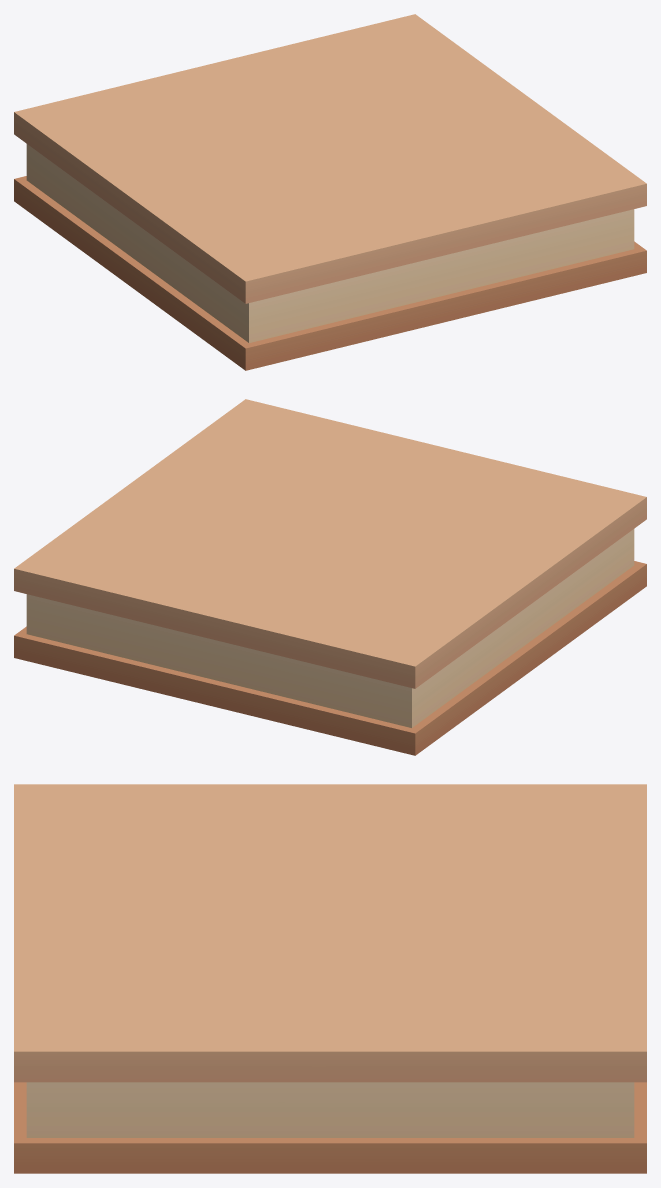
Rendered from kenney-modular-buildings-roof-flat-detail-b.glb.
3 renders of one model, top to bottom at view 1: azimuth 30°, elevation 25°; view 2: azimuth 150°, elevation 25°; view 3: azimuth 270°, elevation 25°, orthographic. The views are drawn at different scales.
Parts seen in each view (by area): view 1: roof-flat-detail-b; view 2: roof-flat-detail-b; view 3: roof-flat-detail-b.
Boxes of the visible parts, x1,y1,x2,y2 form: roof-flat-detail-b: [14, 14, 646, 370]; roof-flat-detail-b: [14, 399, 646, 755]; roof-flat-detail-b: [14, 784, 646, 1173].
Size of the model in its own units: 1 by 0.2125 by 1.
Materials: 1 (1 with a texture image).
